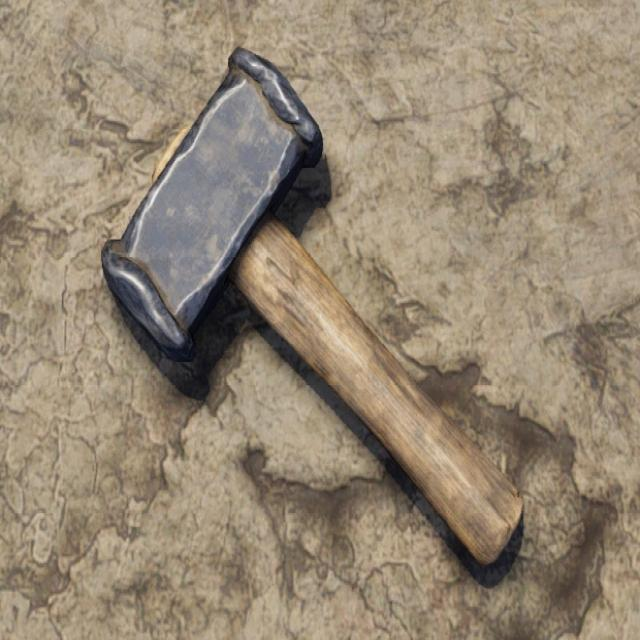hammer: (98, 39, 530, 580)
